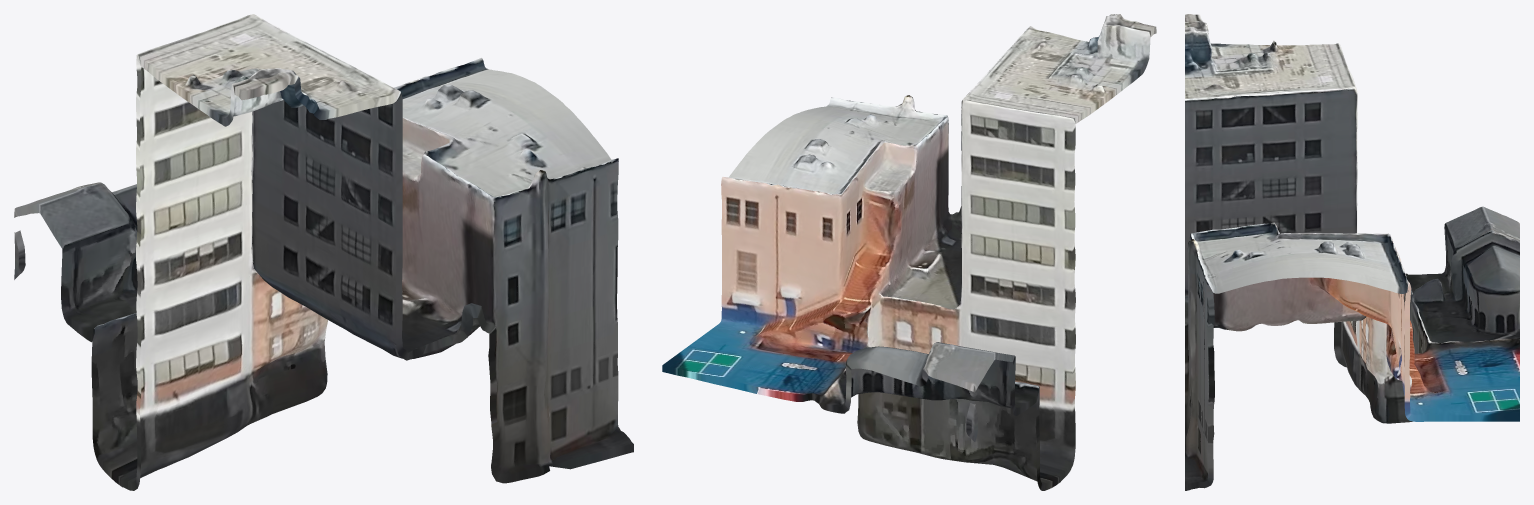
The model's file is z20-167753-405237-h0-yup-uvflip-v3-world.glb.
The picture shows the model from 3 angles, left to right: view 1: azimuth 30°, elevation 25°; view 2: azimuth 150°, elevation 25°; view 3: azimuth 270°, elevation 25°; orthographic projection. The views are drawn at different scales.
Size of the model in its own units: 30.2 by 35.96 by 30.32.
1 material, 1 textured.
